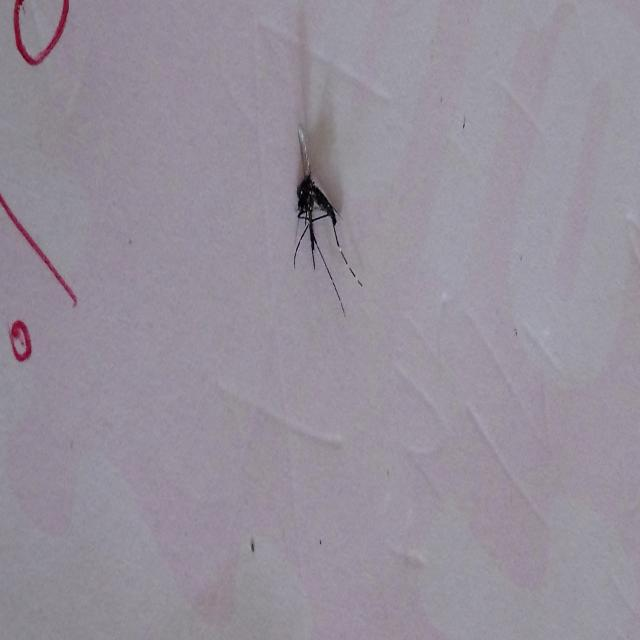albopictus: (285, 121, 360, 313)
